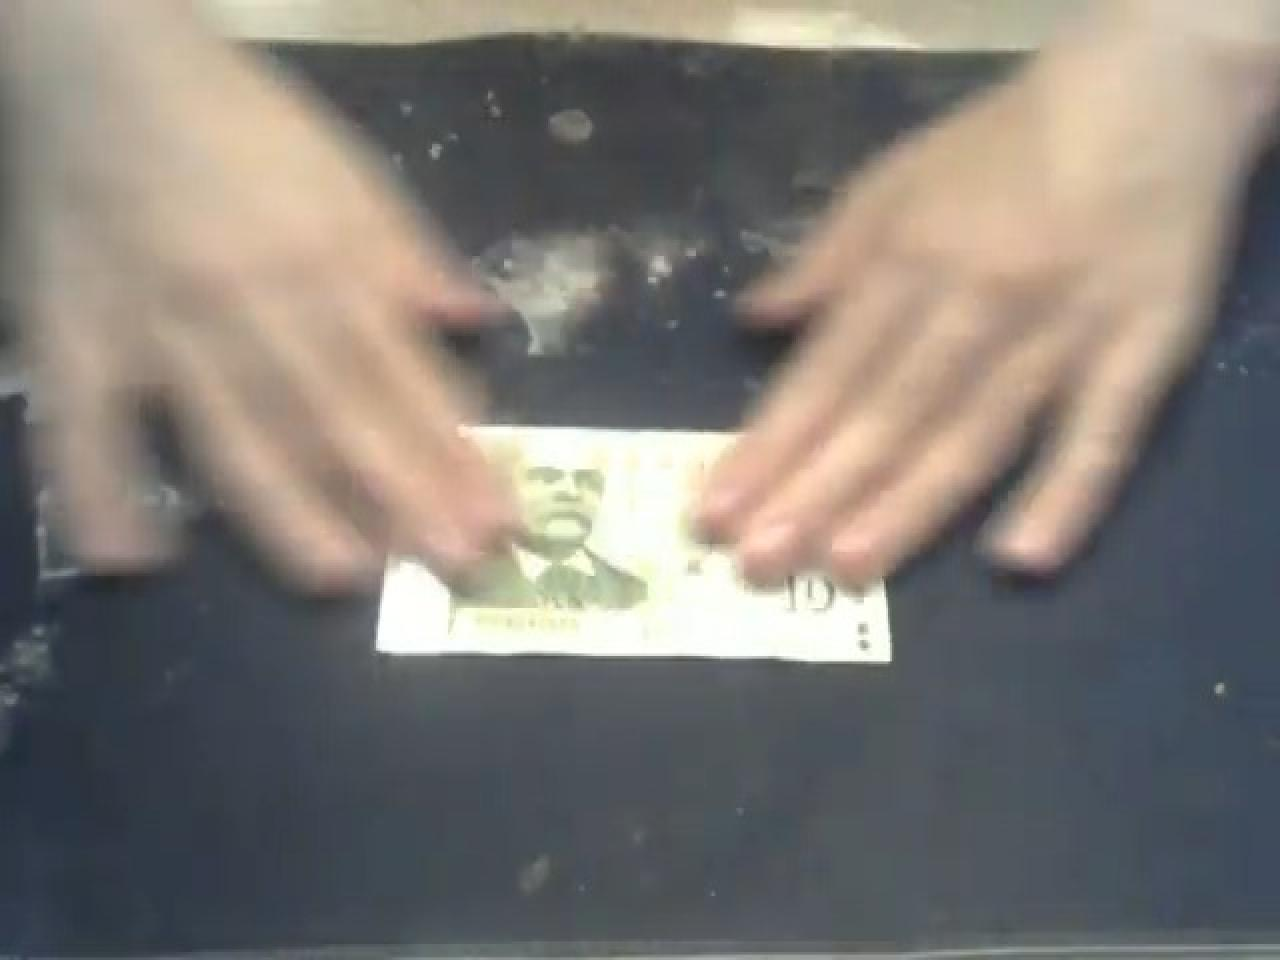10leva: (378, 430, 894, 670)
